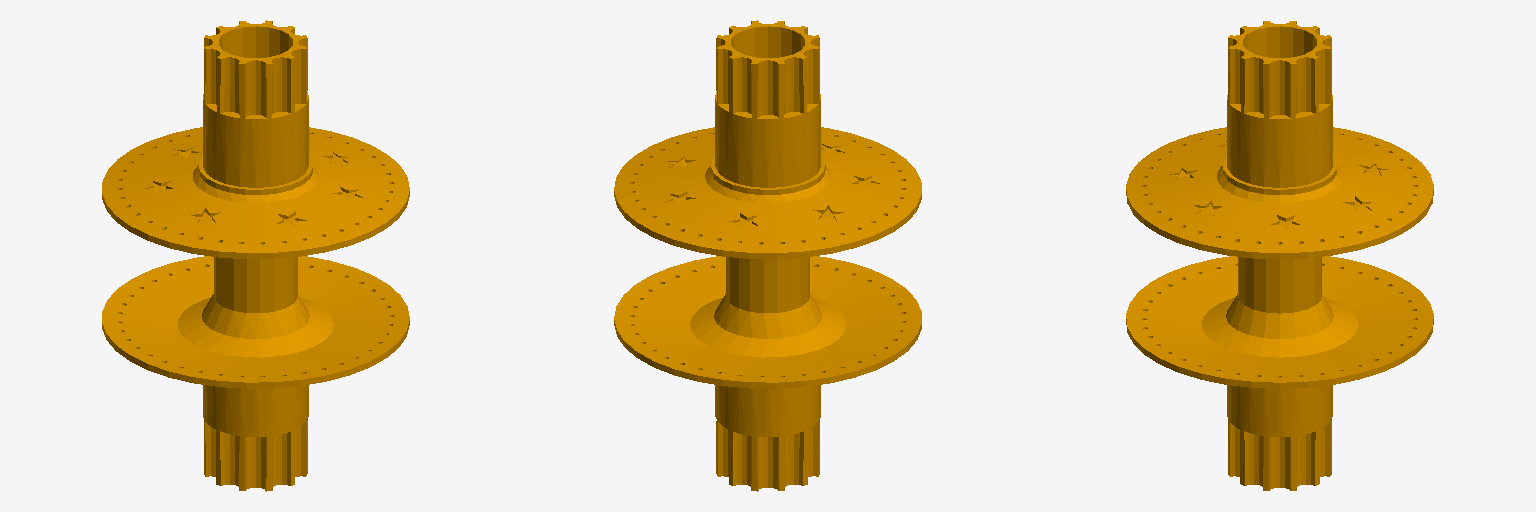
robot.urdf — 00755_plug:
<?xml version="1.0"?>
<robot name="00755_plug">
	<link name="00755_plug">
		<visual>
			<geometry>
				<mesh filename="../mesh/00755/asset_plug.obj"/>
			</geometry>
		</visual>
		<collision>
			<geometry>
				<mesh filename="../mesh/00755/asset_plug.obj"/>
			</geometry>
			<sdf resolution="256"/>
		</collision>
	</link>
</robot>

--- Render facts (derived) ---
3 views of the same robot in one strip: view 1: azimuth 30°, elevation 25°; view 2: azimuth 150°, elevation 25°; view 3: azimuth 270°, elevation 25° (orthographic).
Model 00755_plug with 1 links and 0 joints (none), rooted at 00755_plug, posed all joints at 0.
Visible links, largest first — view 1: 00755_plug; view 2: 00755_plug; view 3: 00755_plug.
Link boxes in pixels (bbox=[...]): 00755_plug: bbox=[102, 20, 409, 491]; 00755_plug: bbox=[614, 20, 921, 491]; 00755_plug: bbox=[1126, 21, 1433, 490].
Bounding box of the posed robot: 0.0345 × 0.0346 × 0.0529 m (x, y, z).
Meshes: 1 distinct files referenced, 1 mesh visuals loaded (1 OBJ).